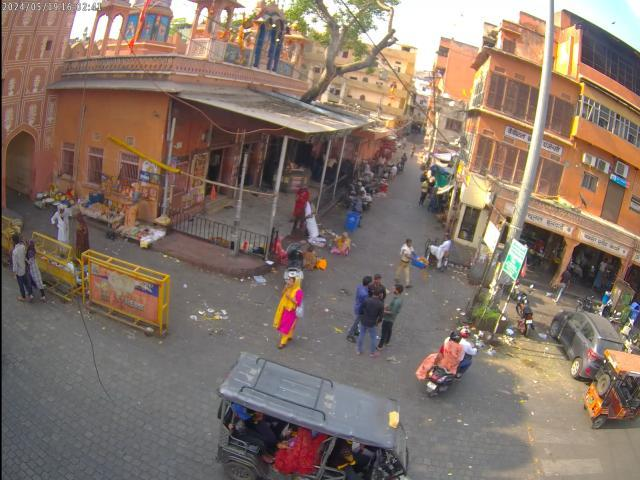auto: (215, 352, 412, 477), (608, 348, 640, 424)
car: (553, 312, 619, 374)
helmet: (446, 333, 463, 346)
person: (350, 274, 390, 349), (275, 270, 306, 352), (381, 282, 407, 346), (15, 235, 38, 303), (427, 234, 457, 270), (599, 287, 614, 319)
scooty-rider: (418, 332, 477, 396)
